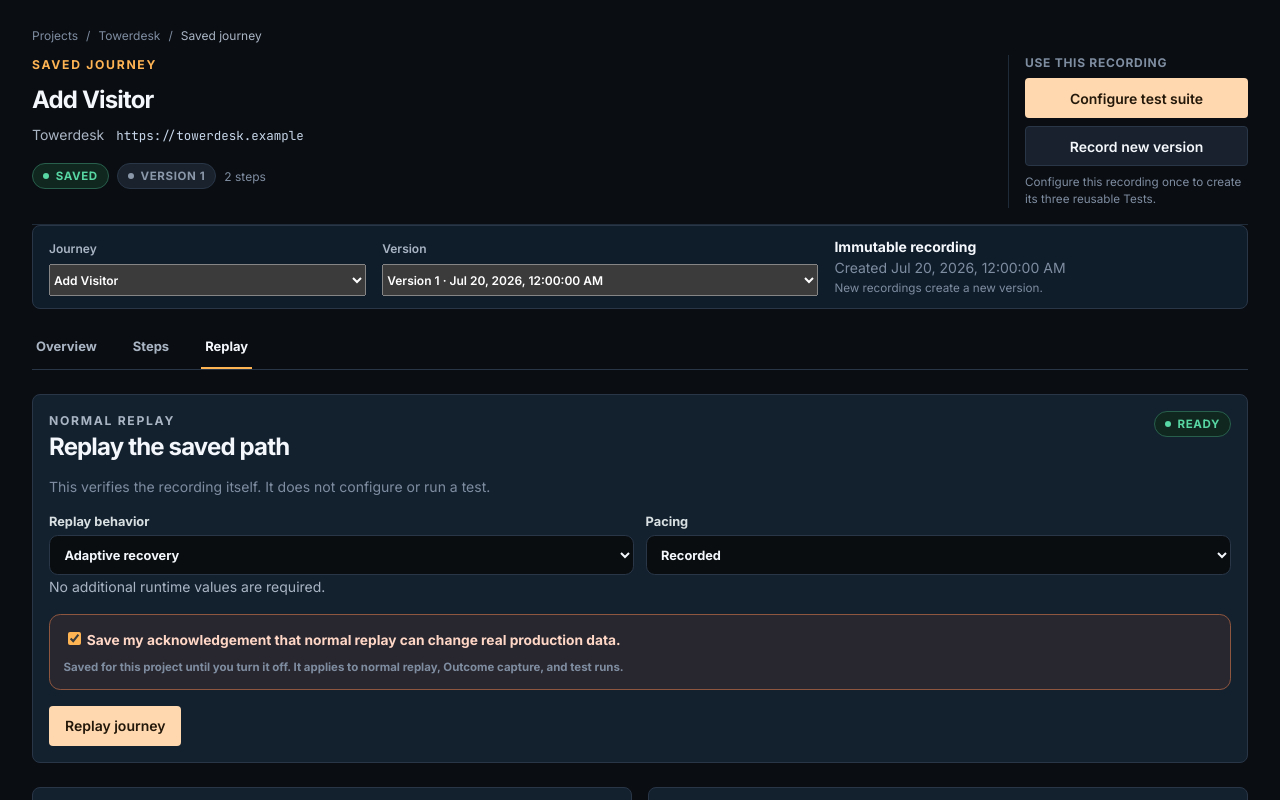
saved journey workspace › loads and updates the saved production replay acknowledgement
expect the button "Replay journey" is enabled: met, box x1=49 y1=706 x2=182 y2=746
Click the checkbox labelled "Save my acknowledgement that normal replay can change real production data": (74, 638) x1=68 y1=632 x2=81 y2=645
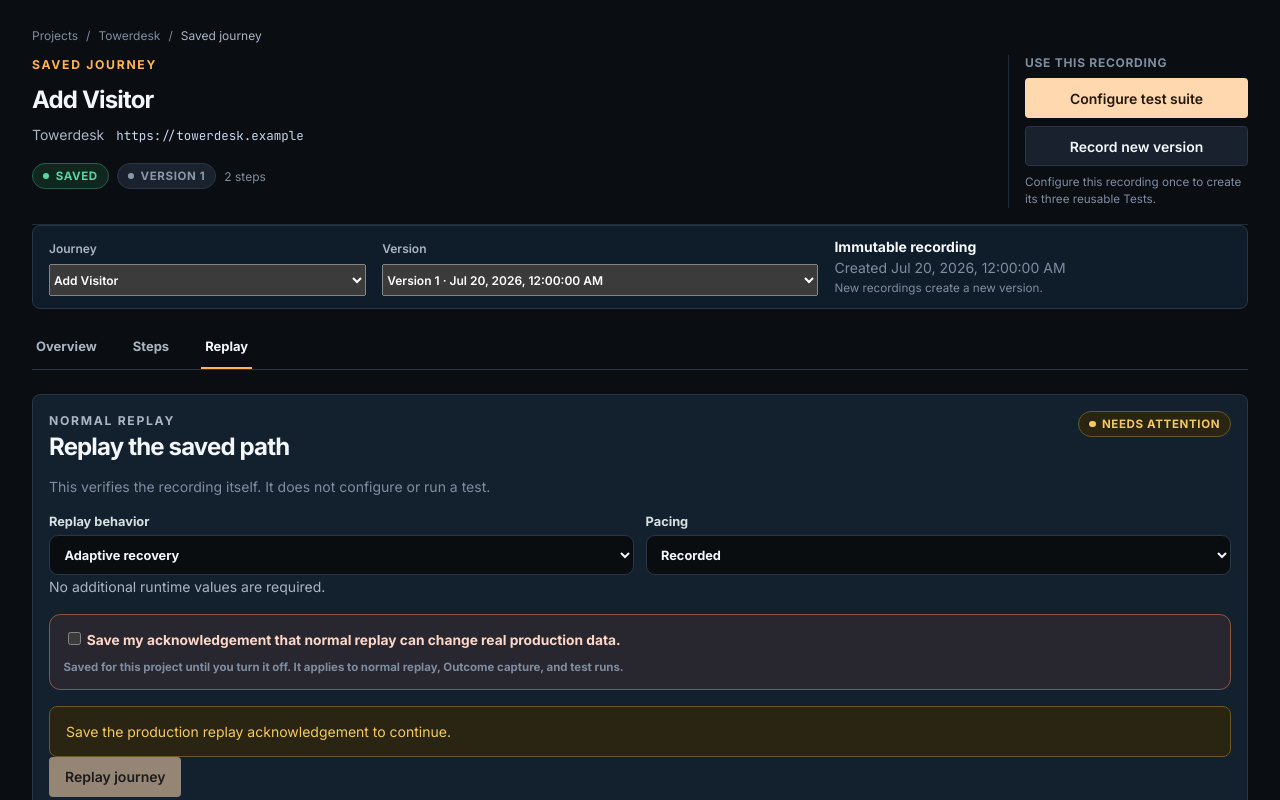
expect the checkbox labelled "Save my acknowledgement that normal replay can change real production data" is not checked: met, box x1=68 y1=632 x2=81 y2=645
expect the text "Save the production replay acknowledgement to continue." is shown: met, box x1=49 y1=706 x2=1231 y2=757
